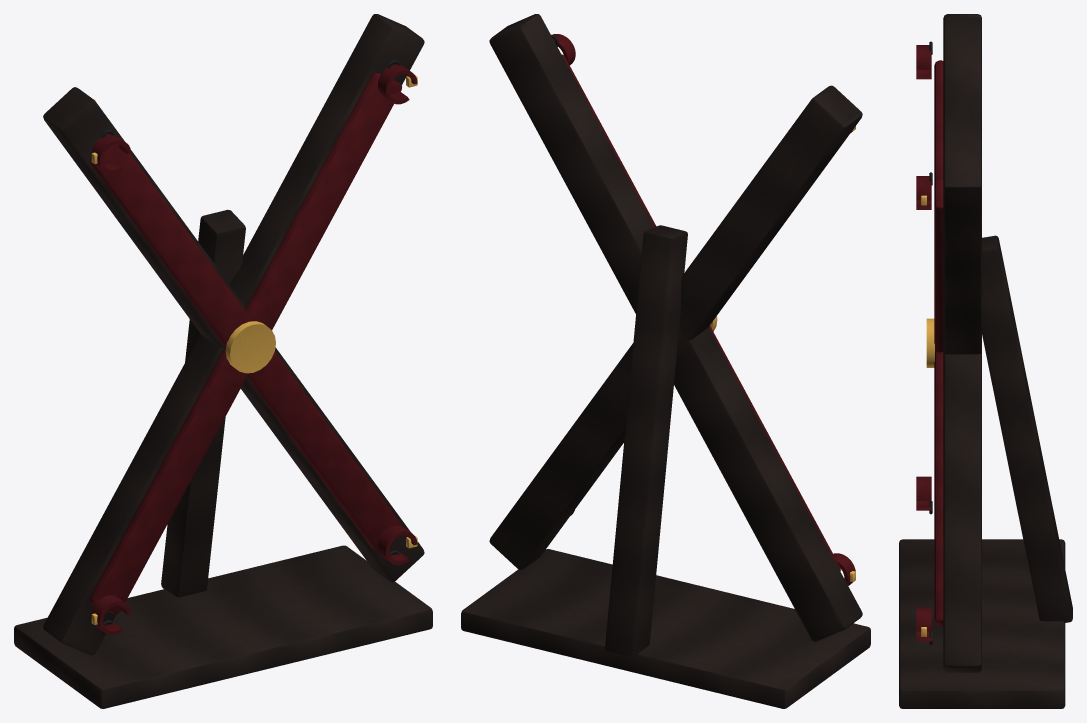
File: Furn_Adult_XCross.fbx
The picture shows the model from 3 angles, left to right: view 1: azimuth 30°, elevation 25°; view 2: azimuth 150°, elevation 25°; view 3: azimuth 270°, elevation 25°; orthographic projection. The views are drawn at different scales.
Parts seen in each view (by area): view 1: Adult_XCross; view 2: Adult_XCross; view 3: Adult_XCross.
Part boxes in pixels (left/top/right/bottom): Adult_XCross: left=14, top=14, right=432, bottom=708; Adult_XCross: left=461, top=14, right=870, bottom=708; Adult_XCross: left=899, top=14, right=1072, bottom=708.
Size of the model in its own units: 1.42 by 2.2 by 0.6278.
Materials: 4 (4 with a texture image).
